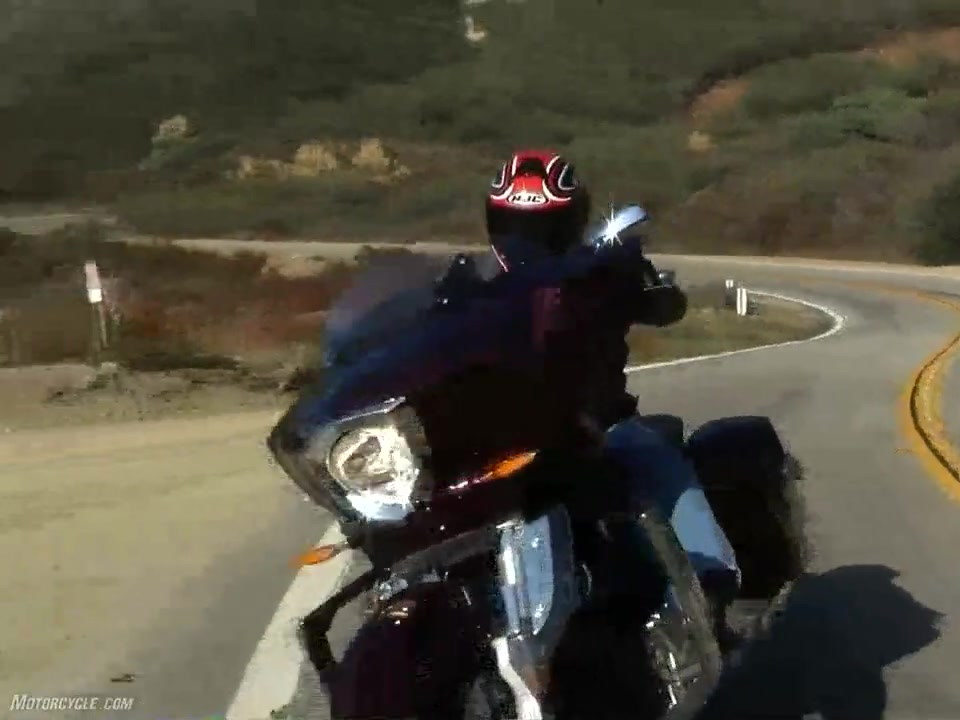motorbike: (265, 203, 814, 720)
